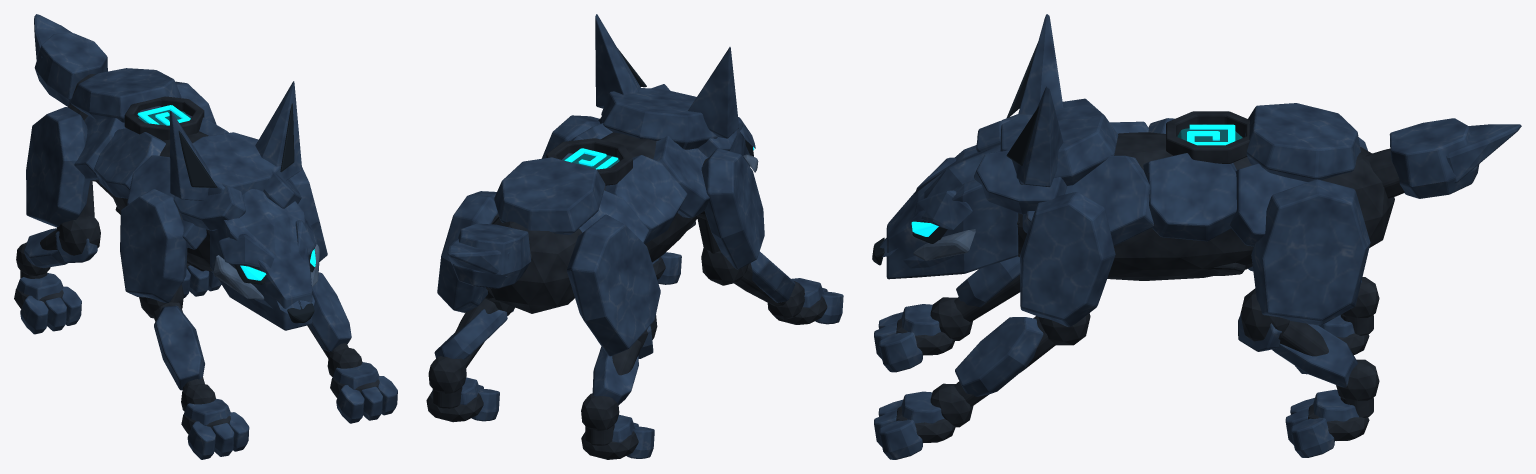
File: fast-rune-hound.glb
3 renders of one model, left to right at view 1: azimuth 30°, elevation 25°; view 2: azimuth 150°, elevation 25°; view 3: azimuth 270°, elevation 25°, orthographic. The views are drawn at different scales.
Visible parts, largest first — view 1: Fast_Rune_Hound_PBR; view 2: Fast_Rune_Hound_PBR; view 3: Fast_Rune_Hound_PBR.
Boxes of the visible parts, x1,y1,x2,y2 form: Fast_Rune_Hound_PBR: (14,14,397,459); Fast_Rune_Hound_PBR: (426,14,843,459); Fast_Rune_Hound_PBR: (872,14,1521,459).
Bounding box in the file's own units: 1.92 × 2.68 × 4.45.
Materials: 1 (1 with a texture image).
